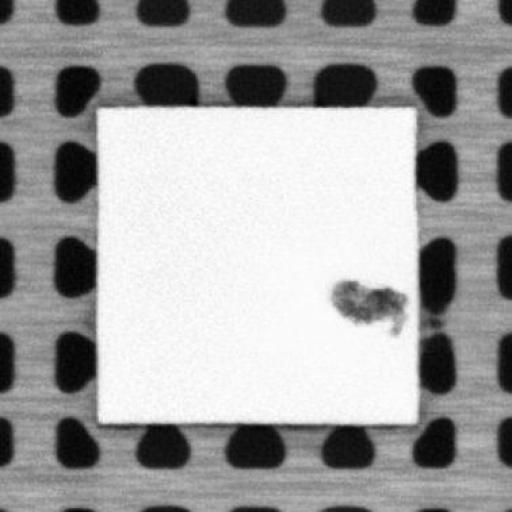DIE_INK: (325, 273, 409, 340)
